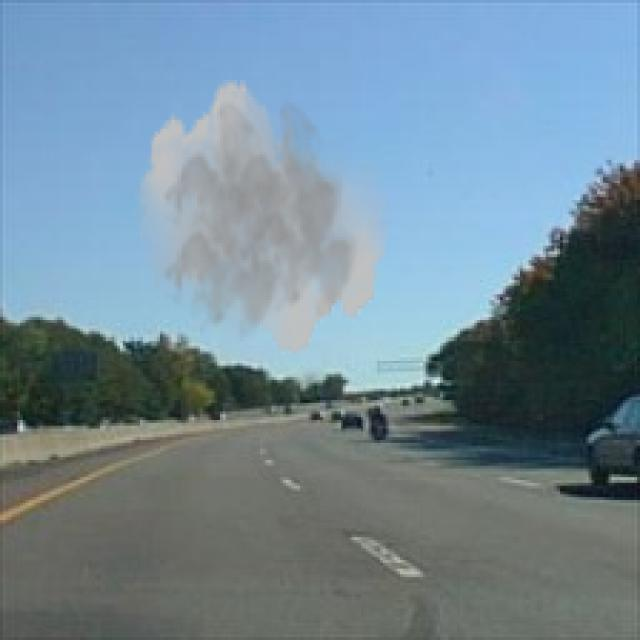smoke: (134, 77, 392, 357)
